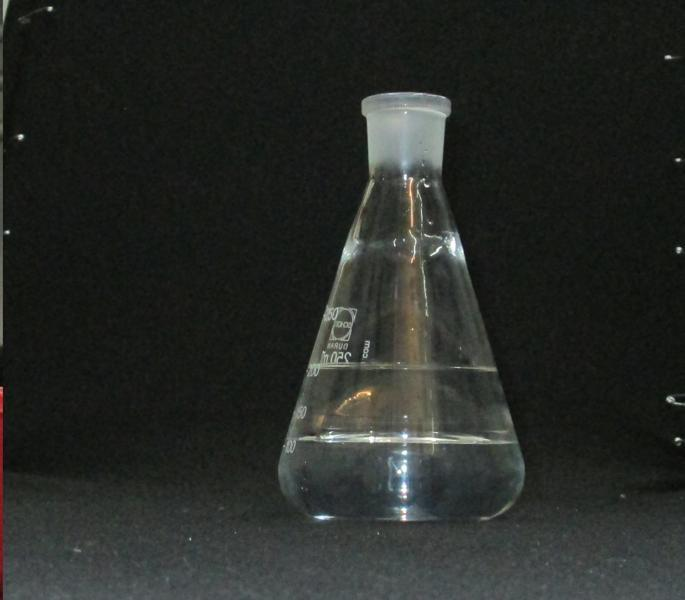Titrarion: (270, 64, 534, 522)
